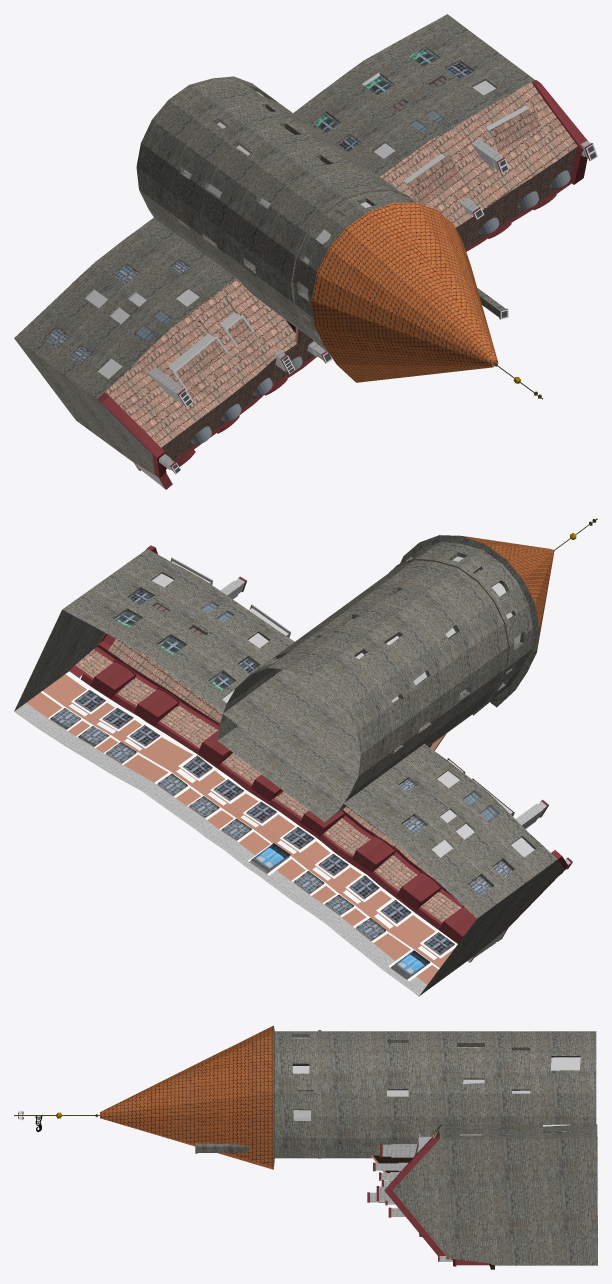
Rendered from Kooli_7.obj.
The picture shows the model from 3 angles, top to bottom: view 1: azimuth 30°, elevation 25°; view 2: azimuth 150°, elevation 25°; view 3: azimuth 270°, elevation 25°; orthographic projection. The views are drawn at different scales.
Visible parts, largest first — view 1: Kooli_7; view 2: Kooli_7; view 3: Kooli_7.
Boxes of the visible parts, x1,y1,x2,y2 form: Kooli_7: (14,14,597,489); Kooli_7: (14,518,597,996); Kooli_7: (14,1025,597,1269).
Bounding box in the file's own units: 36.47 × 23.36 × 42.75.
